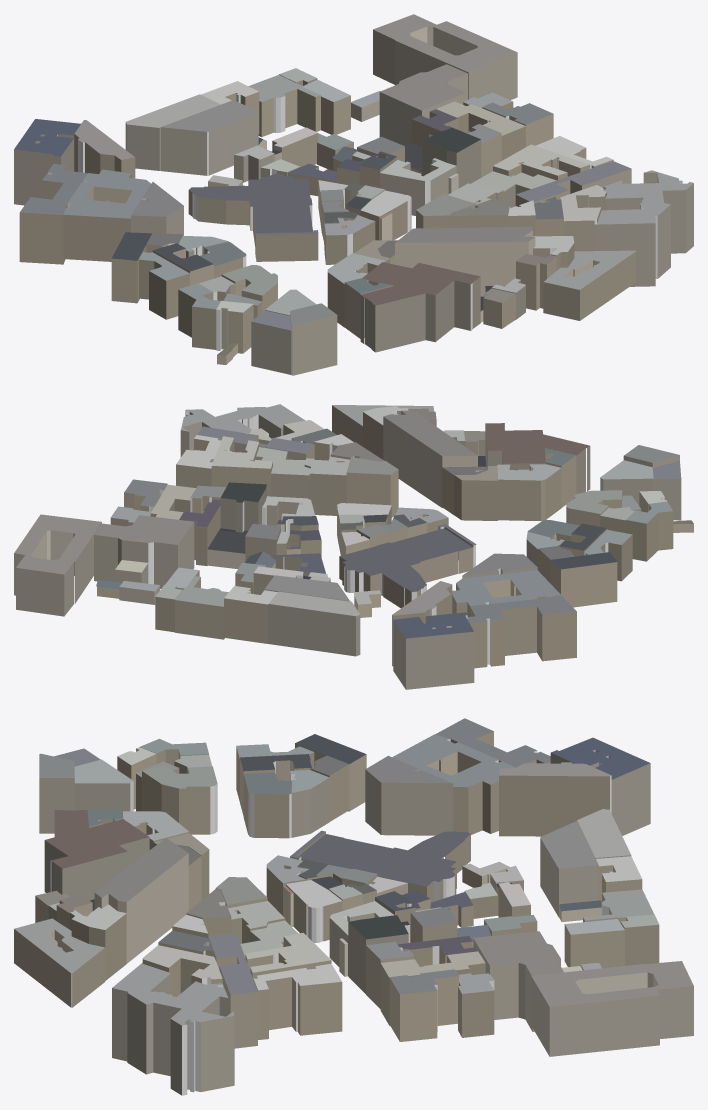
The picture shows the model from 3 angles, top to bottom: view 1: azimuth 30°, elevation 25°; view 2: azimuth 150°, elevation 25°; view 3: azimuth 270°, elevation 25°; orthographic projection. The views are drawn at different scales.
Visible parts, largest first — view 1: tuile; view 2: tuile; view 3: tuile.
Boxes of the visible parts, x1,y1,x2,y2 form: tuile: (14, 14, 693, 375); tuile: (14, 404, 693, 689); tuile: (14, 718, 693, 1095).
Bounding box in the file's own units: 297 × 44.62 × 289.
